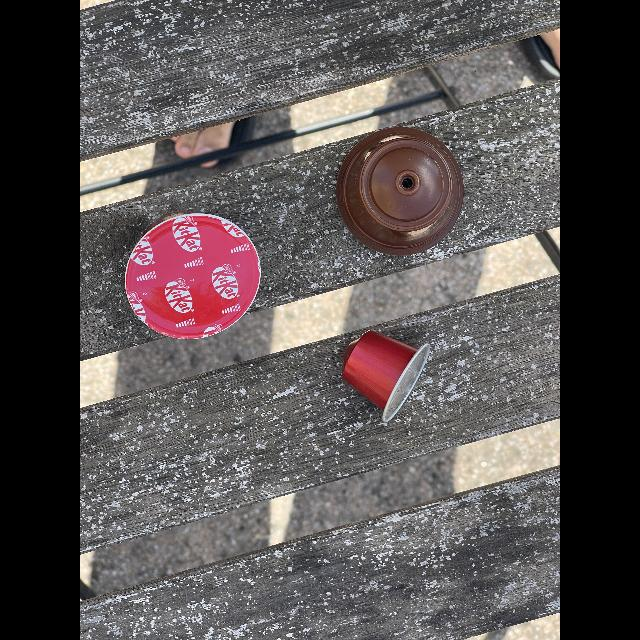intact_capsule: (117, 203, 265, 344), (328, 122, 476, 262), (335, 326, 437, 432)
